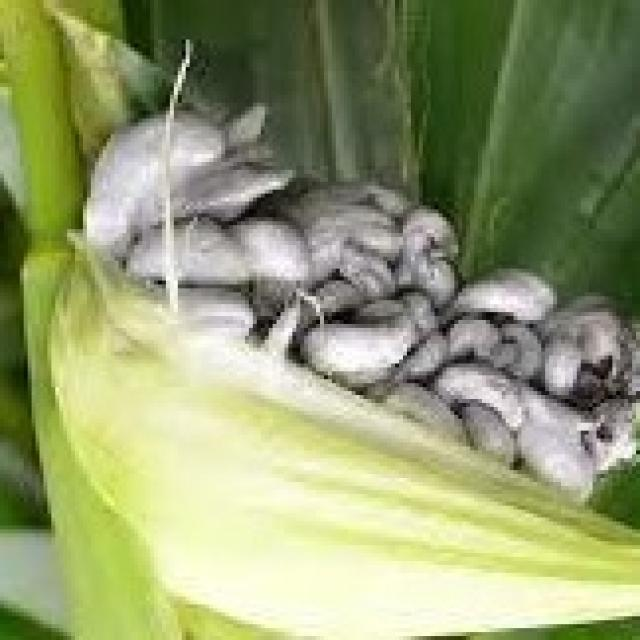Leaf_Scald: (12, 64, 640, 608)
